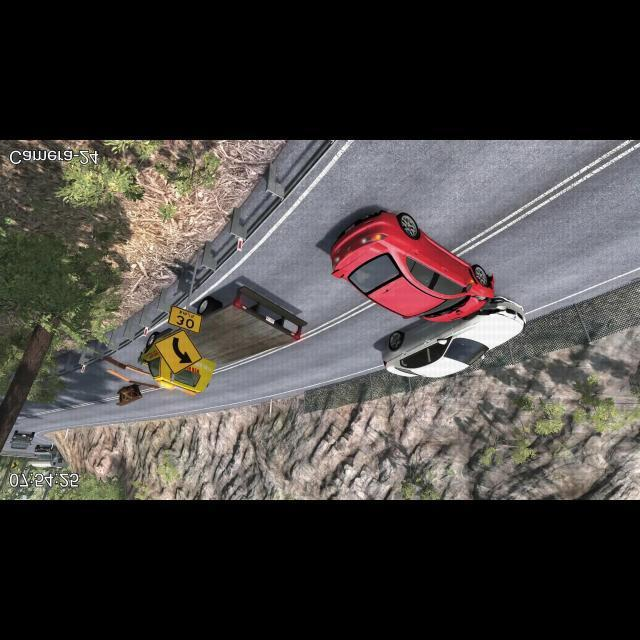moderate: (327, 207, 530, 381)
